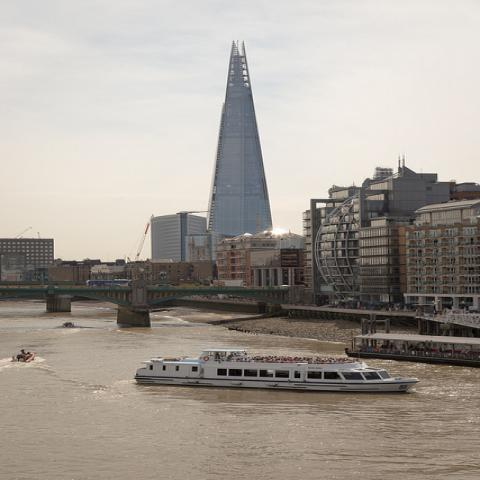bus: (86, 279, 131, 286), (211, 279, 248, 286)
